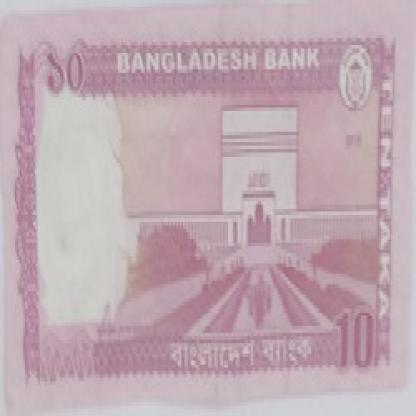Ten Taka: (34, 31, 102, 114), (326, 295, 381, 371)
